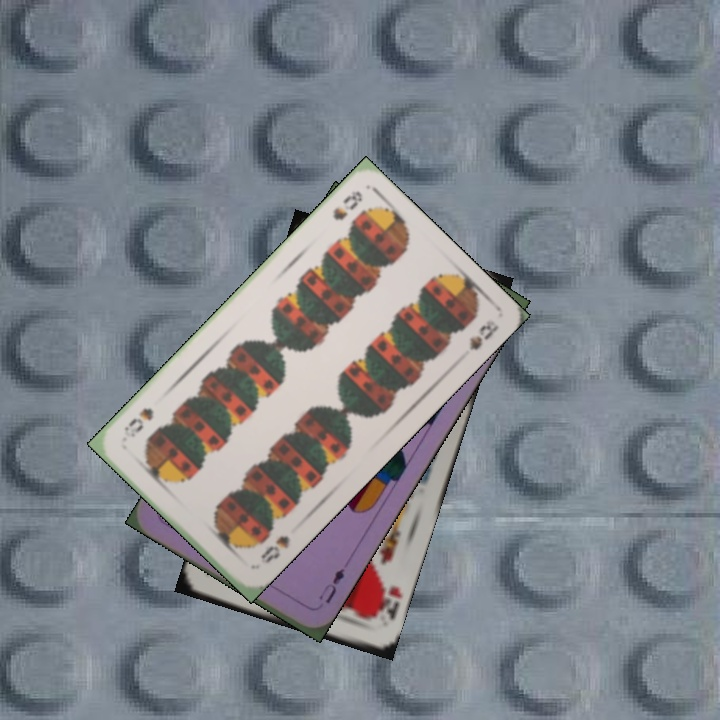EU: (314, 564, 347, 606)
HK: (368, 577, 404, 623)
S8: (328, 186, 365, 223), (256, 531, 293, 567)
